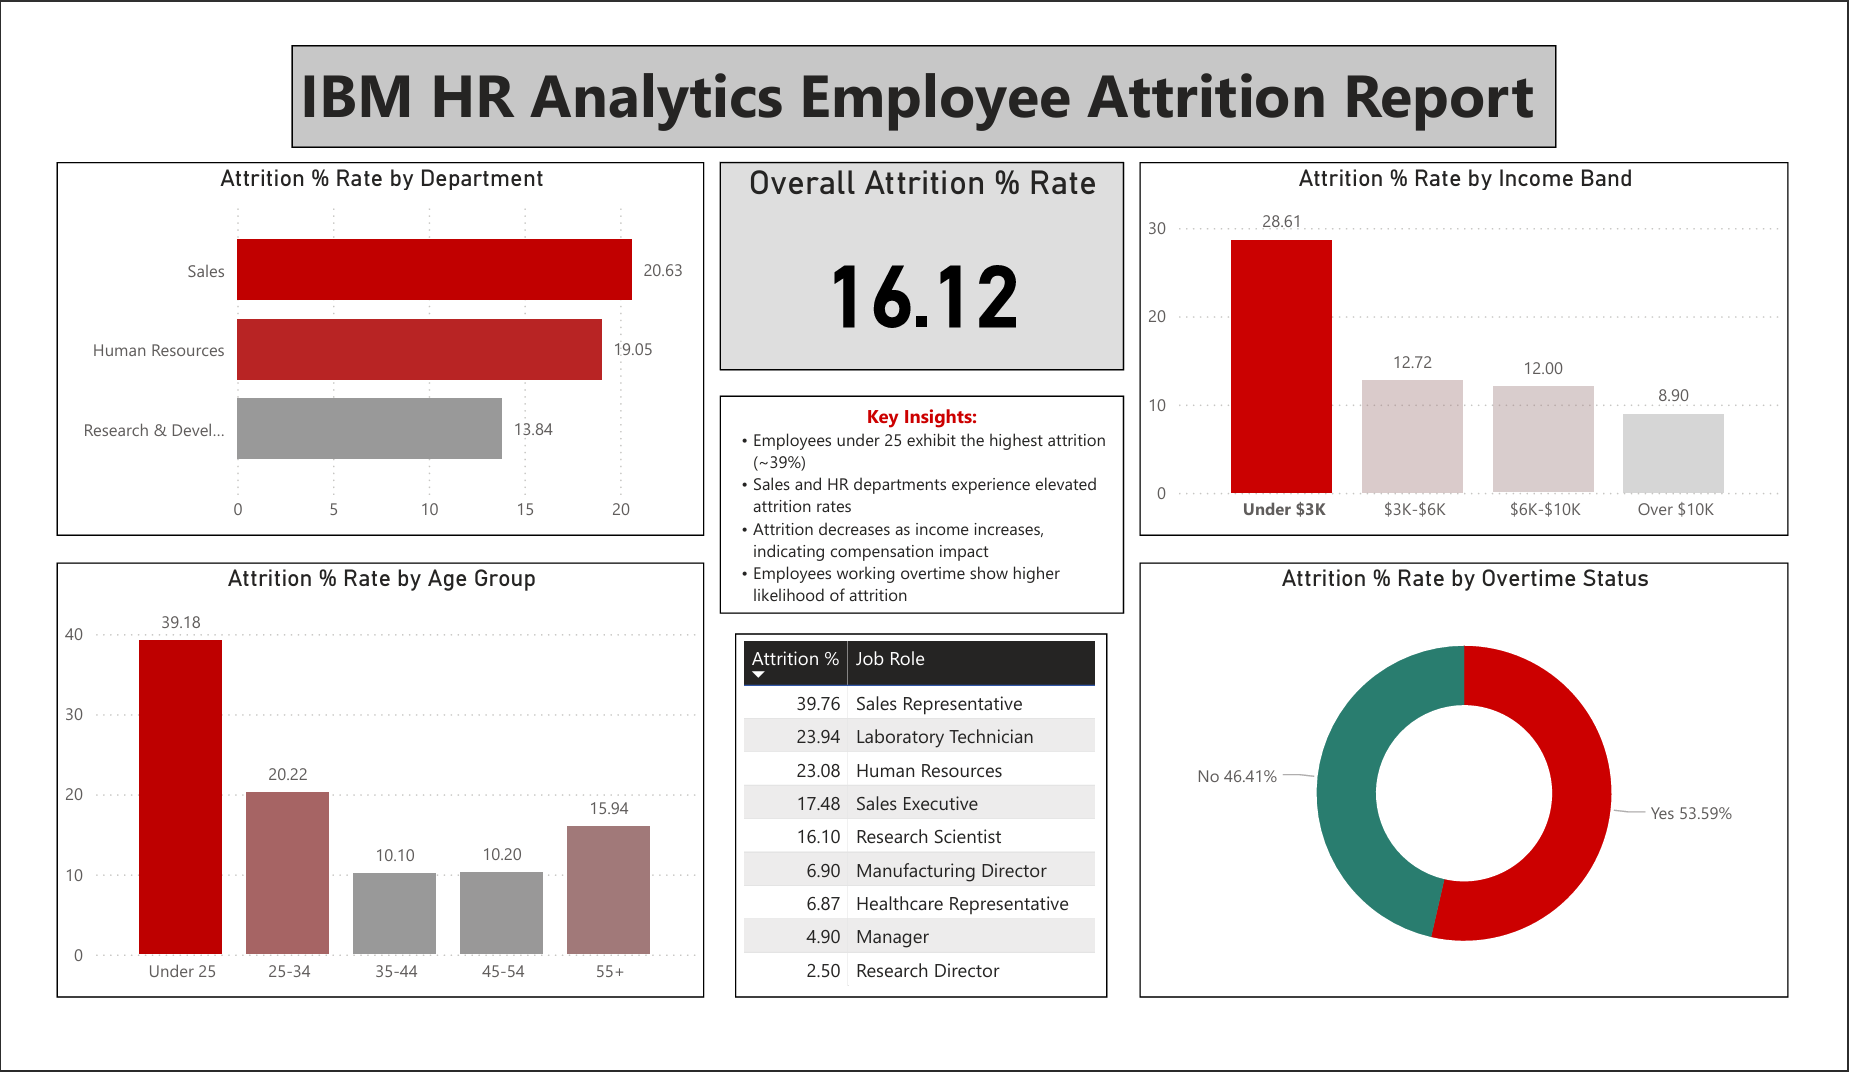

What the dashboard file says about the page in this screenshot:
{"tool":"powerbi","page":{"name":"Page 1","canvas":[1280,720],"ordinal":0},"visuals":[{"type":"card","title":"Overall Attrition % Rate","fields":{"Values":["Sum(overall_attrition_rate.attrition_rate_pct)"]},"box":[492.9,91.1,291.4,149.7],"z":0},{"type":"clusteredBarChart","title":"Attrition % Rate by Department","fields":{"Category":["attrition_by_department.department"],"Y":["Sum(attrition_by_department.attrition_rate_pct)"]},"box":[16.2,91.1,466.1,268.9],"z":1000},{"type":"clusteredColumnChart","title":"Attrition % Rate by Age Group","fields":{"Y":["Sum(attrition_by_age_group.attrition_rate_pct)"],"Category":["Age_Mapping.age_group"]},"box":[16.2,379.3,466.1,312.6],"z":2000},{"type":"donutChart","title":"Attrition % Rate by Overtime Status","fields":{"Category":["attrition_by_overtime.overtime"],"Y":["Sum(attrition_by_overtime.employees_left)"]},"box":[795.5,379.3,466.1,312.6],"z":3000},{"type":"tableEx","fields":{"Values":["Sum(attrition_by_job_role.attrition_rate_pct)","attrition_by_job_role.jobrole"]},"box":[503.5,429.9,268.3,262],"z":4000},{"type":"clusteredColumnChart","title":"Attrition % Rate by Income Band","fields":{"Category":["attrition_by_income_band.income_band"],"Y":["Sum(attrition_by_income_band.attrition_rate_pct)"]},"box":[795.5,91.1,466.1,268.9],"z":5000},{"type":"textbox","box":[184.7,6.9,910.3,74.2],"z":6000},{"type":"textbox","box":[492.9,258.9,291.4,157.2],"z":6001}]}

Visuals, with their boxes in screenshot pixels (x1, y1, x2, y2), scaled from the page's 1280x720 canvas onto the 1849x1072 screenshot:
"Overall Attrition % Rate" card: (left=712, top=136, right=1133, bottom=359)
"Attrition % Rate by Department" clusteredBarChart: (left=23, top=136, right=697, bottom=536)
"Attrition % Rate by Age Group" clusteredColumnChart: (left=23, top=565, right=697, bottom=1030)
"Attrition % Rate by Overtime Status" donutChart: (left=1149, top=565, right=1822, bottom=1030)
tableEx - Sum(attrition_by_job_role.attrition_rate_pct) x attrition_by_job_role.jobrole: (left=727, top=640, right=1115, bottom=1030)
"Attrition % Rate by Income Band" clusteredColumnChart: (left=1149, top=136, right=1822, bottom=536)
textbox: (left=267, top=10, right=1582, bottom=121)
textbox: (left=712, top=385, right=1133, bottom=620)
